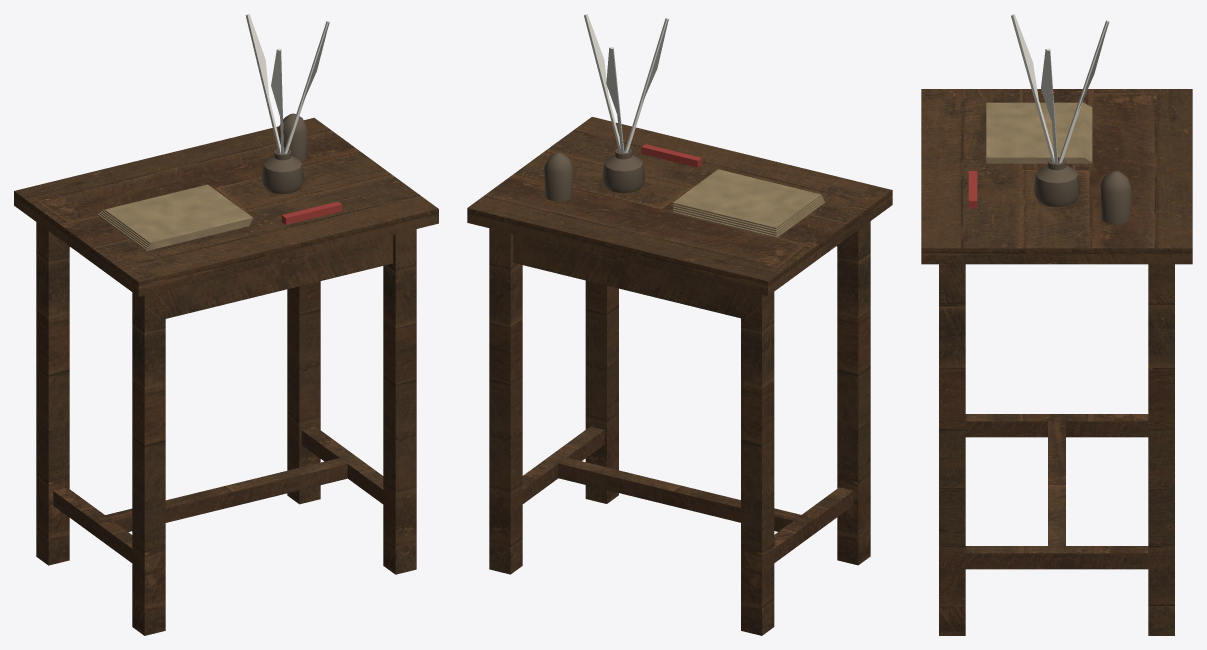
File: side_table.glb
3 views of the same model, side by side, from view 1: azimuth 30°, elevation 25°; view 2: azimuth 150°, elevation 25°; view 3: azimuth 270°, elevation 25° (orthographic). The views are drawn at different scales.
Visible parts, largest first — view 1: side_table; view 2: side_table; view 3: side_table.
Boxes of the visible parts, left/top/right/bottom form: side_table: left=14, top=14, right=438, bottom=635; side_table: left=467, top=14, right=892, bottom=635; side_table: left=921, top=14, right=1192, bottom=635.
Bounding box in the file's own units: 0.64 × 1.06 × 0.46.
Materials: 5 (2 with a texture image).
